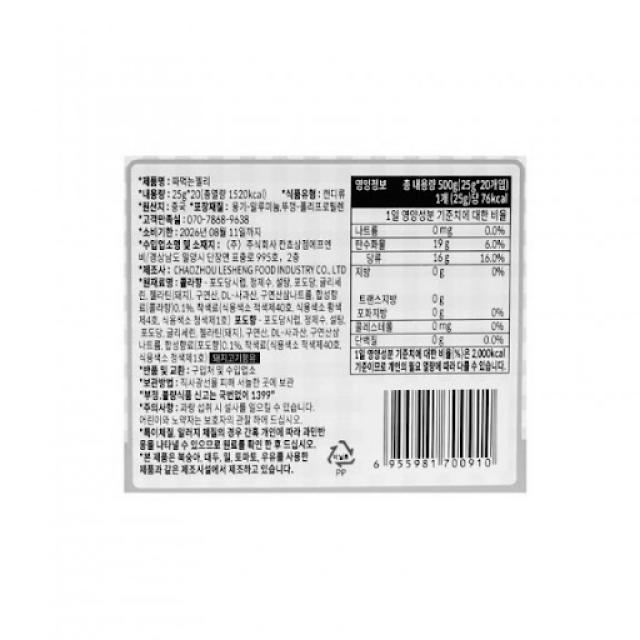Nutrition Label: (350, 168, 524, 379)
